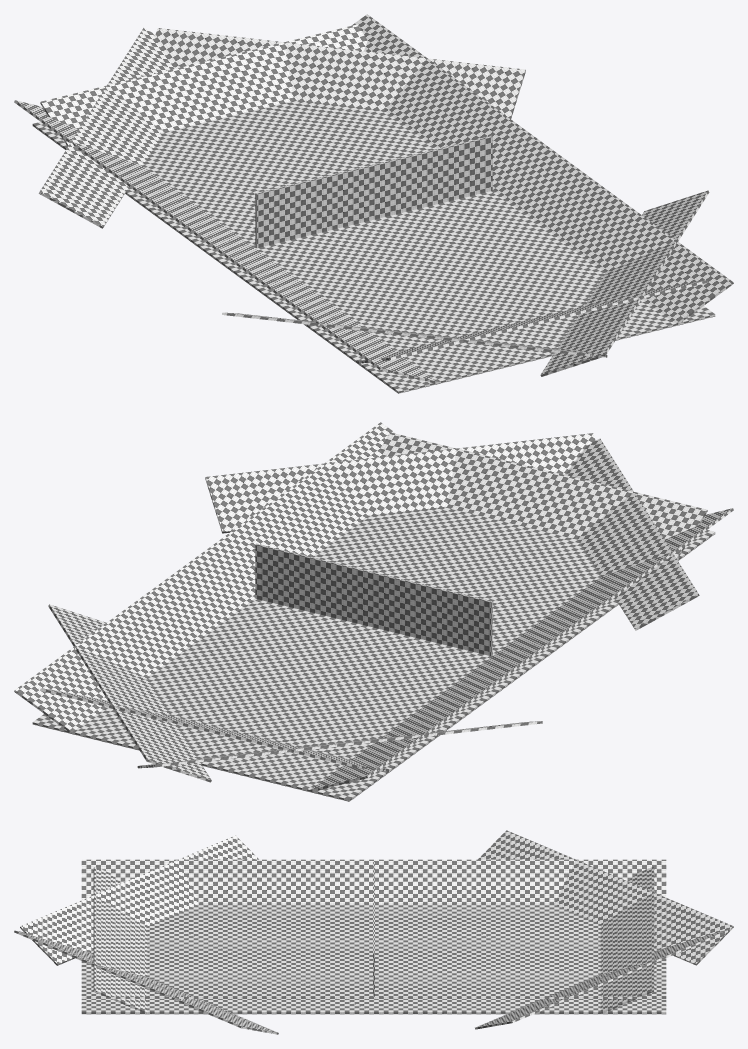
The model's file is Area_grid.fbx.
3 views of the same model, one above another, from view 1: azimuth 30°, elevation 25°; view 2: azimuth 150°, elevation 25°; view 3: azimuth 270°, elevation 25° (orthographic). The views are drawn at different scales.
Visible parts, largest first — view 1: Base, Base_1, Ramp25__4_, Net, Ramp25__2__1, Ramp25_1, Ramp25__1__1, Ramp25__3__1, Ramp25__1_, Ramp25__3_, Ramp25__4__1, Ramp25 (+1 smaller); view 2: Base_1, Base, Ramp25__3__1, Net, Ramp25__1_, Ramp25, Ramp25__4_, Ramp25__2_, Ramp25__2__1, Ramp25__4__1, Ramp25__3_, Ramp25_1 (+1 smaller); view 3: Base_1, Base, Ramp25__4__1, Ramp25__3_, Ramp25__1__1, Ramp25__2_, Ramp25_1, Ramp25, Ramp25__1_, Ramp25__2__1, Ramp25__4_, Ramp25__3__1.
Boxes of the visible parts, x1,y1,x2,y2 form: Base: [215, 190, 715, 393]; Base_1: [32, 100, 435, 259]; Ramp25__4_: [493, 148, 733, 324]; Net: [255, 135, 492, 248]; Ramp25__2__1: [154, 28, 525, 118]; Ramp25_1: [40, 24, 367, 146]; Ramp25__1__1: [38, 28, 175, 228]; Ramp25__3__1: [351, 14, 549, 189]; Ramp25__1_: [540, 190, 709, 376]; Ramp25__3_: [197, 234, 437, 383]; Ramp25__4__1: [14, 100, 254, 247]; Ramp25: [357, 280, 707, 363]; Base_1: [32, 598, 532, 801]; Base: [312, 506, 715, 667]; Ramp25__3__1: [14, 556, 254, 731]; Net: [255, 543, 492, 656]; Ramp25__1_: [205, 433, 595, 533]; Ramp25: [380, 432, 707, 559]; Ramp25__4_: [198, 422, 396, 597]; Ramp25__2_: [565, 438, 699, 630]; Ramp25__2__1: [48, 604, 211, 782]; Ramp25__4__1: [310, 642, 550, 791]; Ramp25__3_: [493, 508, 733, 655]; Ramp25_1: [40, 688, 390, 771]; Base_1: [374, 904, 666, 1014]; Base: [81, 904, 373, 1014]; Ramp25__4__1: [374, 859, 666, 904]; Ramp25__3_: [81, 859, 373, 904]; Ramp25__1__1: [478, 830, 733, 965]; Ramp25__2_: [20, 835, 258, 965]; Ramp25_1: [600, 866, 654, 1013]; Ramp25: [93, 866, 147, 1013]; Ramp25__1_: [14, 930, 278, 1034]; Ramp25__2__1: [475, 930, 727, 1029]; Ramp25__4_: [81, 997, 373, 998]; Ramp25__3__1: [374, 997, 666, 998].
Size of the model in its own units: 2387 by 255 by 3693.
